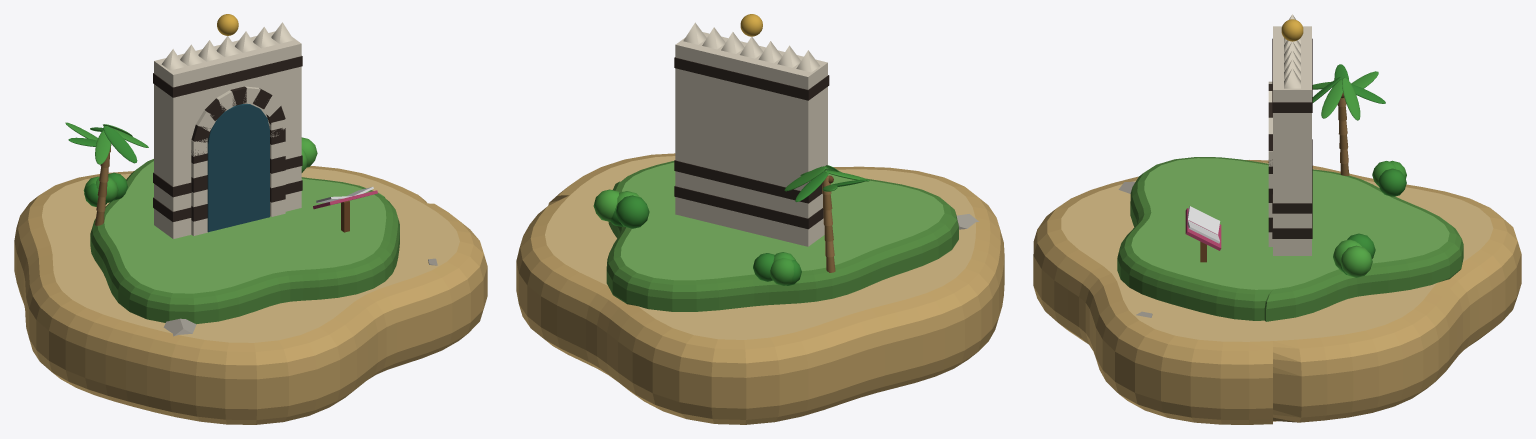
Rendered from letters.glb.
3 renders of one model, left to right at view 1: azimuth 30°, elevation 25°; view 2: azimuth 150°, elevation 25°; view 3: azimuth 270°, elevation 25°, orthographic. The views are drawn at different scales.
Visible parts, largest first — view 1: part_000, part_002, part_003, part_005; view 2: part_000, part_002, part_003, part_004, part_005; view 3: part_000, part_002, part_003, part_004, part_005.
Boxes of the visible parts, box(x1,y1,x2,y2) form: part_000: box(14, 159, 487, 424); part_002: box(153, 14, 377, 238); part_003: box(65, 122, 148, 225); part_005: box(83, 172, 127, 206); part_000: box(516, 153, 1004, 424); part_002: box(674, 14, 829, 246); part_003: box(784, 165, 869, 272); part_004: box(593, 189, 649, 228); part_005: box(753, 252, 801, 285); part_000: box(1033, 157, 1521, 424); part_002: box(1185, 14, 1312, 262); part_003: box(1312, 64, 1385, 175); part_004: box(1333, 233, 1375, 277); part_005: box(1372, 160, 1406, 196).
Bounding box in the file's own units: 8.64 × 6.15 × 8.78.
